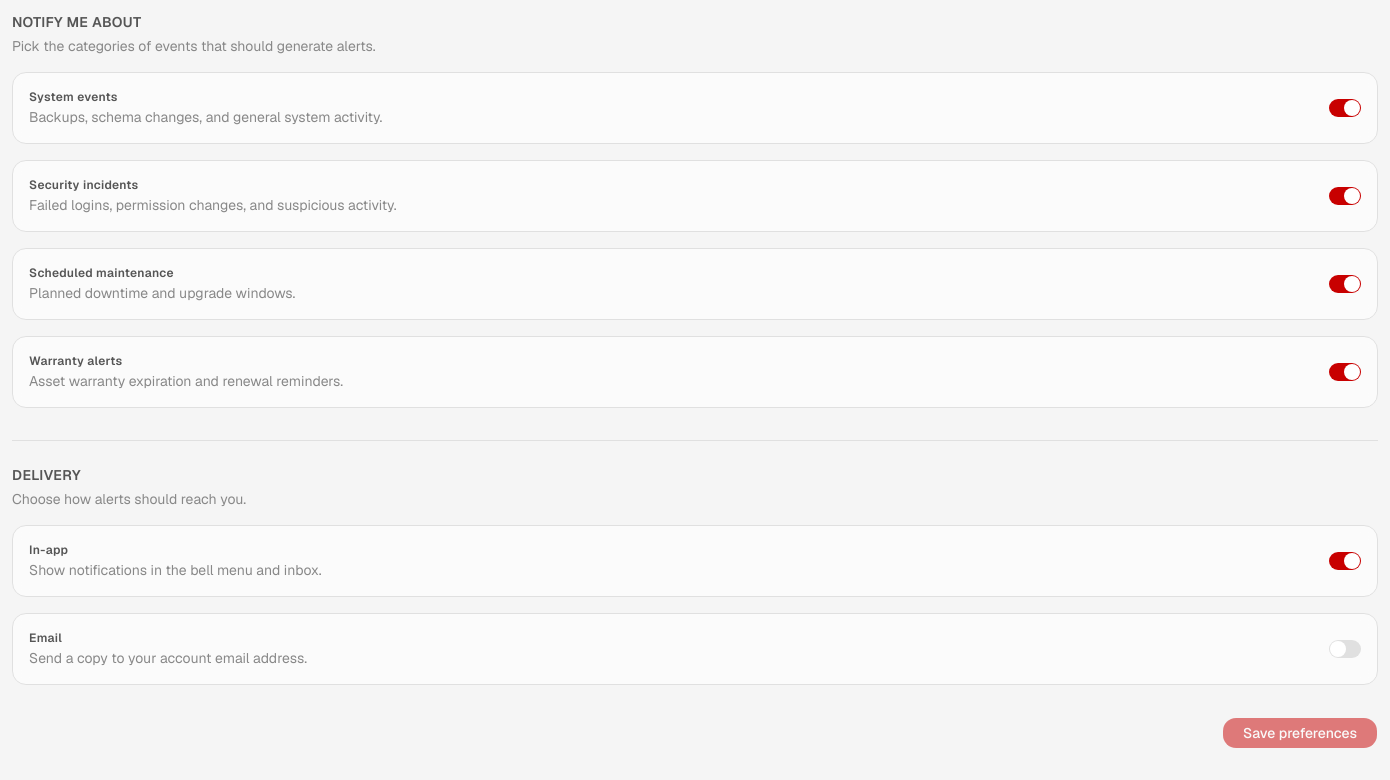
it: PreferencesForm › disables the save button until a switch is toggled
Expected: the button "Save preferences" is disabled, [1222,717,1378,749]
Click the switch in the row of "System events". click: click(1345, 108)
box: [1329,99,1361,117]
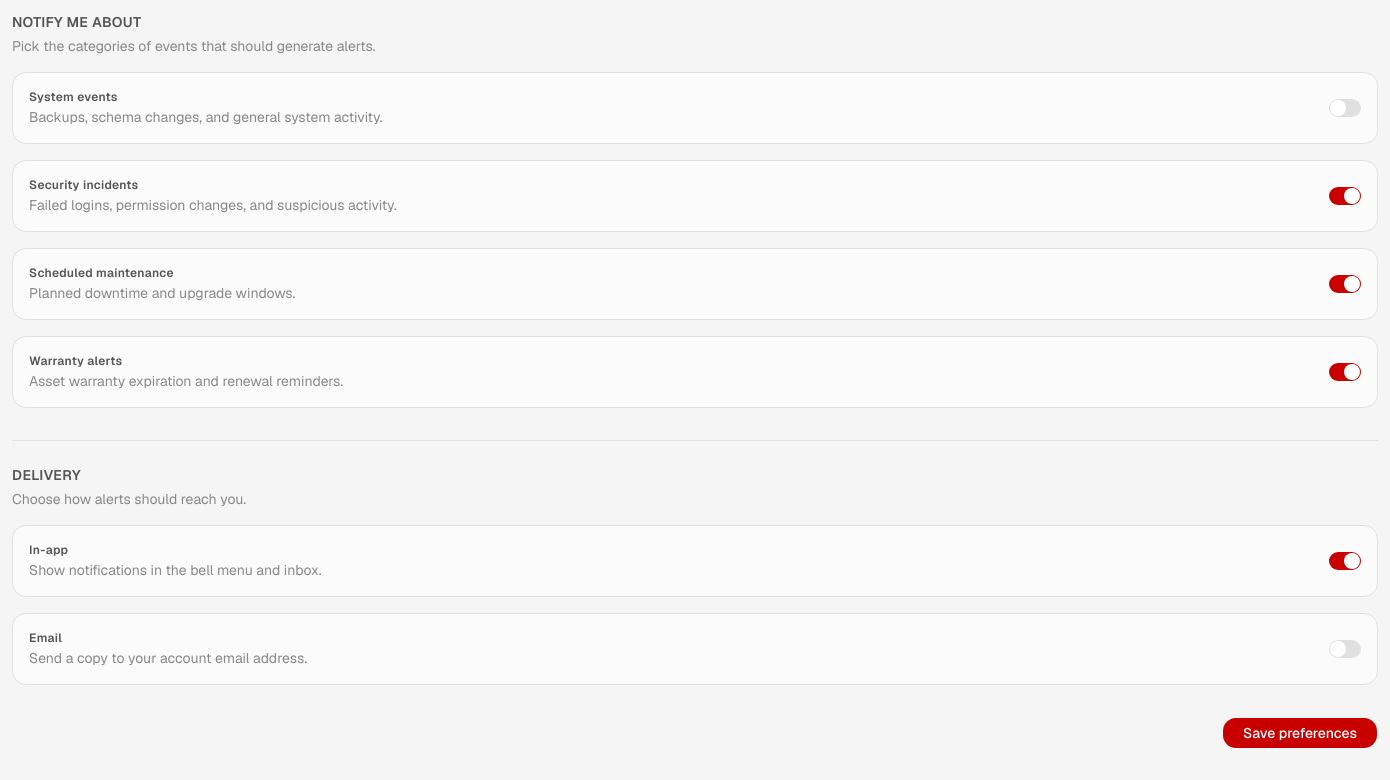
Result: the button "Save preferences" is enabled at [1222,717,1378,749]
